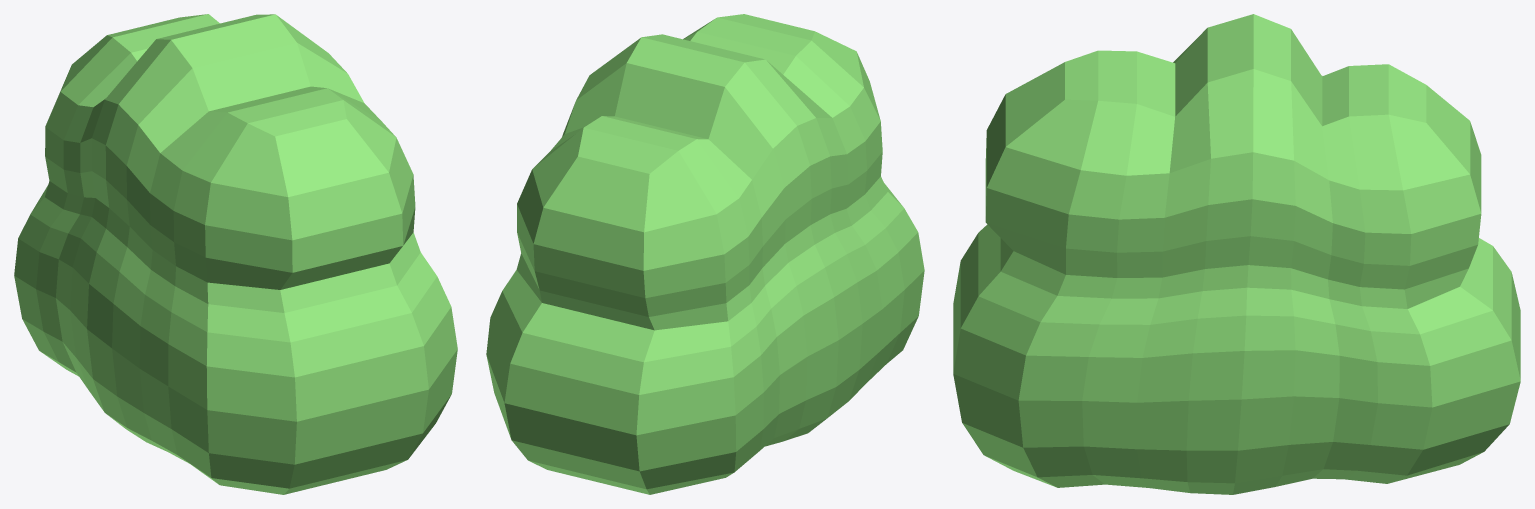
File: arbusto5.fbx
3 renders of one model, left to right at view 1: azimuth 30°, elevation 25°; view 2: azimuth 150°, elevation 25°; view 3: azimuth 270°, elevation 25°, orthographic. The views are drawn at different scales.
Parts seen in each view (by area): view 1: Cubo.004; view 2: Cubo.004; view 3: Cubo.004.
Boxes of the visible parts, x1,y1,x2,y2 form: Cubo.004: (14, 14, 457, 494); Cubo.004: (486, 14, 924, 494); Cubo.004: (953, 14, 1520, 494).
Bounding box in the file's own units: 102 × 134 × 164.
